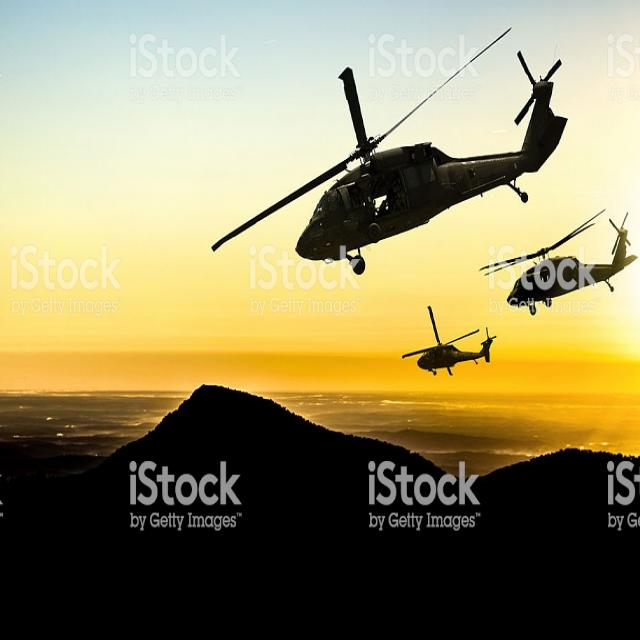helicopter: (203, 30, 573, 277), (486, 212, 640, 309), (400, 306, 502, 373)
